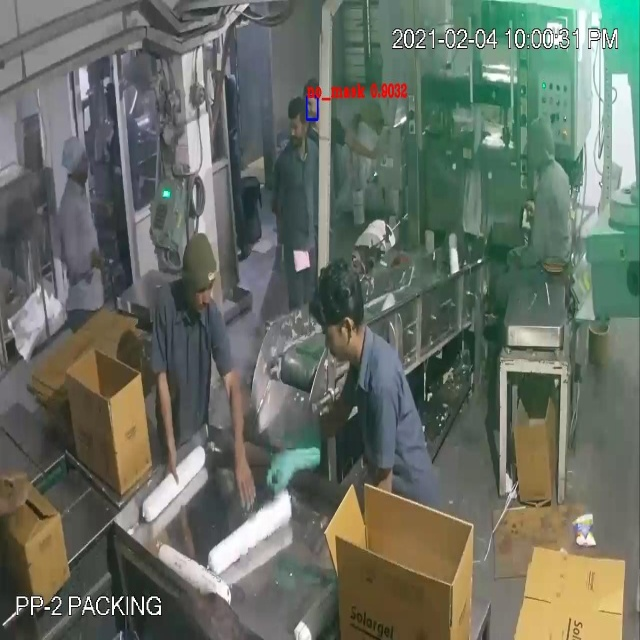Guantes: (261, 396, 342, 512)
Sin_guantes: (144, 330, 186, 506), (221, 350, 262, 527), (343, 129, 391, 175), (0, 464, 32, 520)
